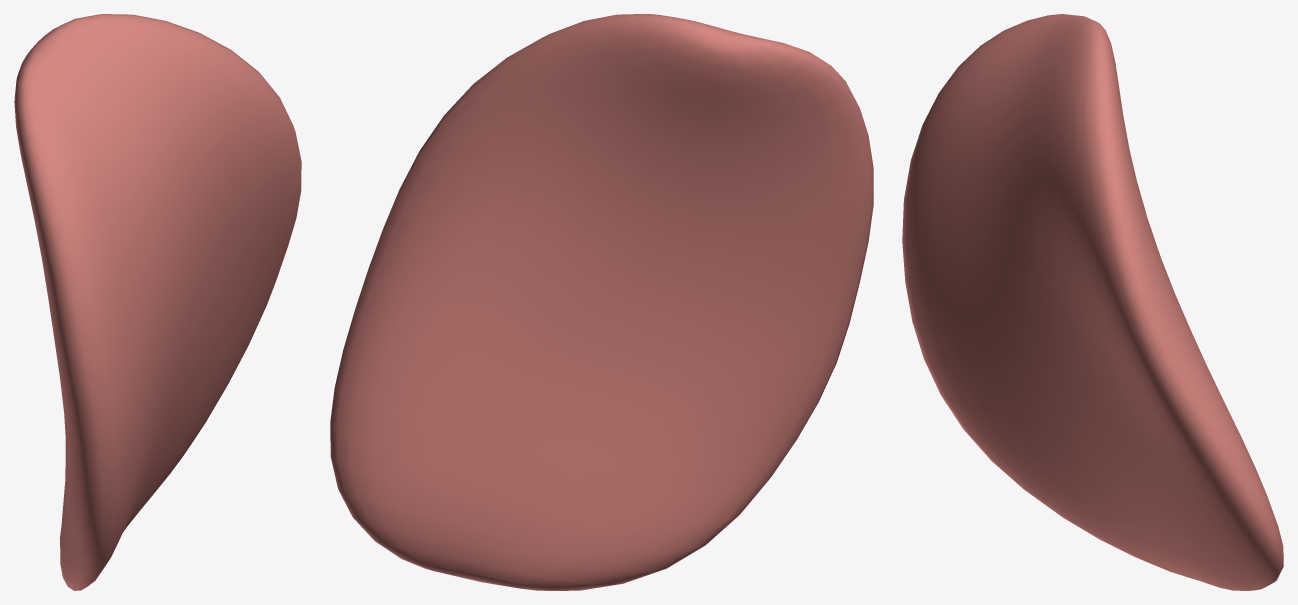
The picture shows the model from 3 angles, left to right: view 1: azimuth 30°, elevation 25°; view 2: azimuth 150°, elevation 25°; view 3: azimuth 270°, elevation 25°; orthographic projection. The views are drawn at different scales.
Parts seen in each view (by area): view 1: ZA_23c6bc090c1b6d5e; view 2: ZA_23c6bc090c1b6d5e; view 3: ZA_23c6bc090c1b6d5e.
Boxes of the visible parts, bbox=[...] form: ZA_23c6bc090c1b6d5e: bbox=[14, 14, 301, 590]; ZA_23c6bc090c1b6d5e: bbox=[330, 14, 873, 590]; ZA_23c6bc090c1b6d5e: bbox=[902, 14, 1283, 590].
Size of the model in its own units: 0.0137 by 0.0197 by 0.0132.
